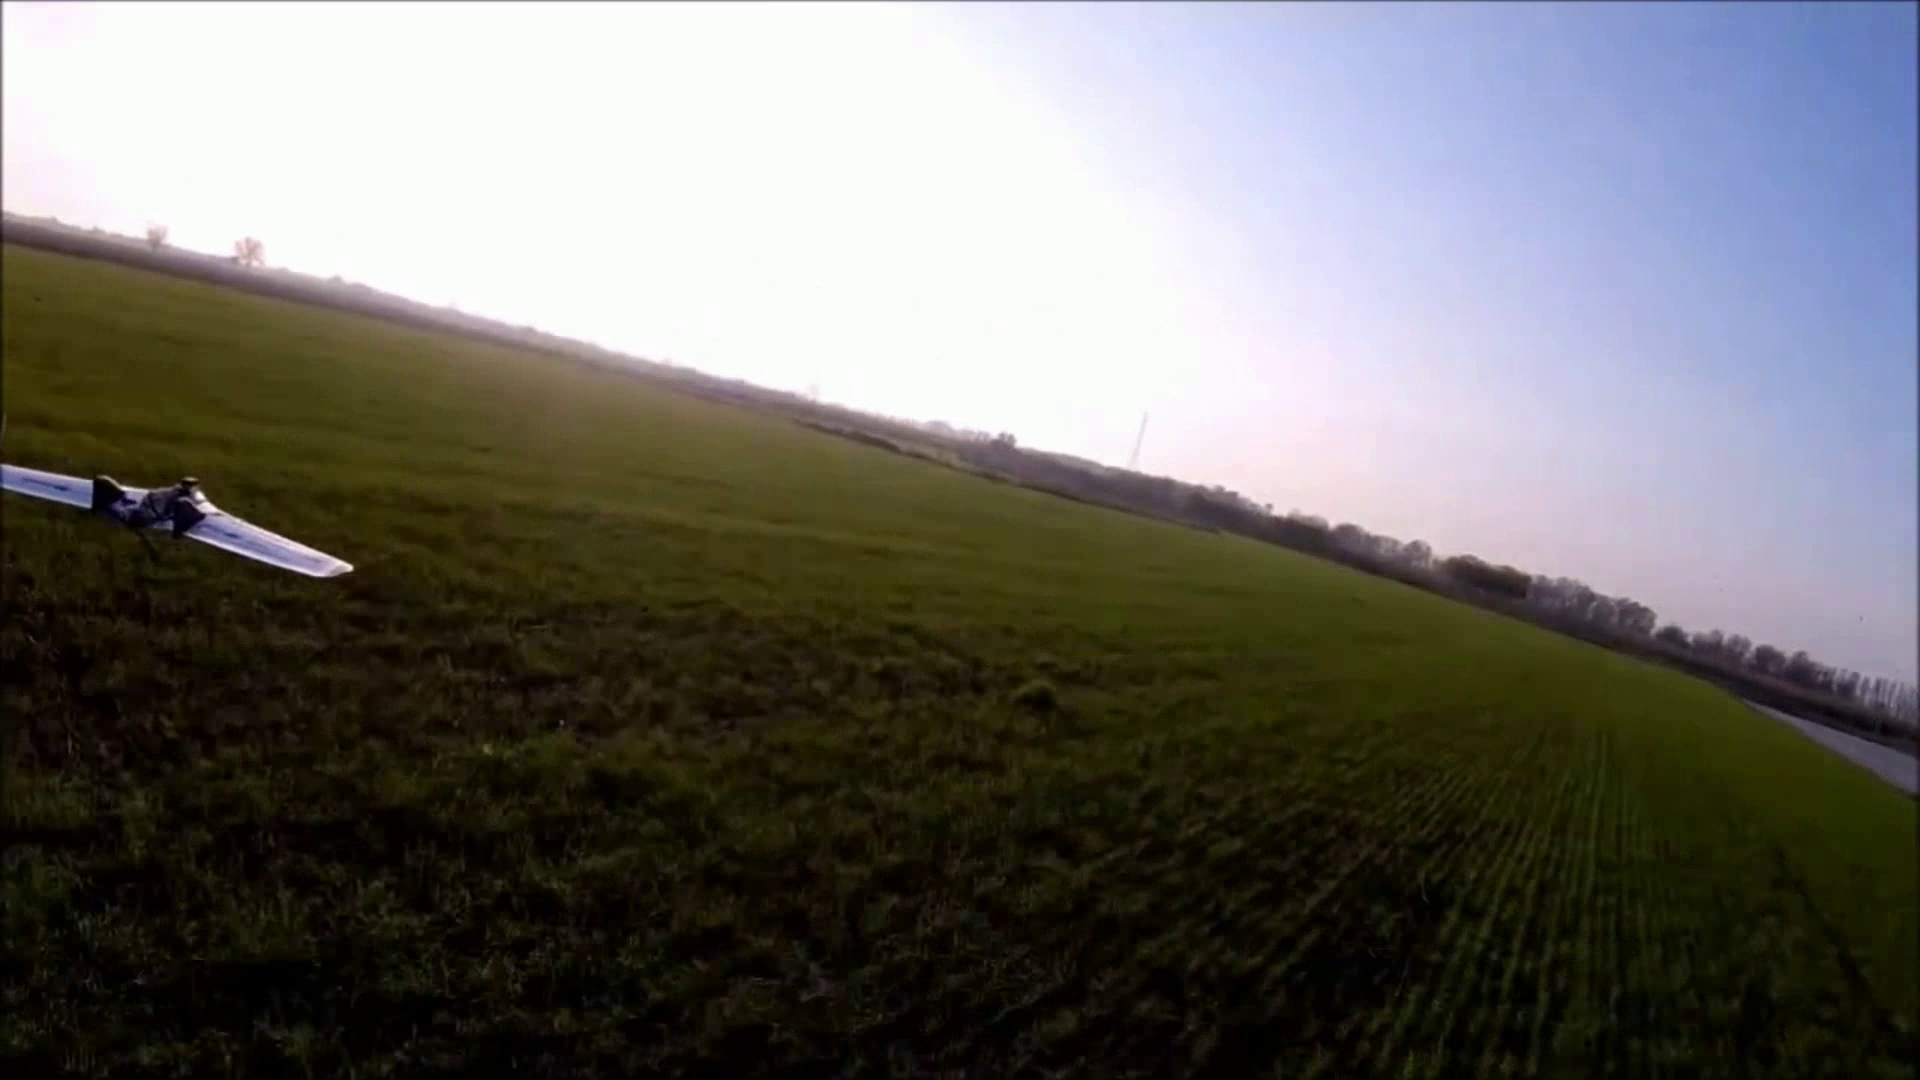airplane: (0, 468, 351, 585)
